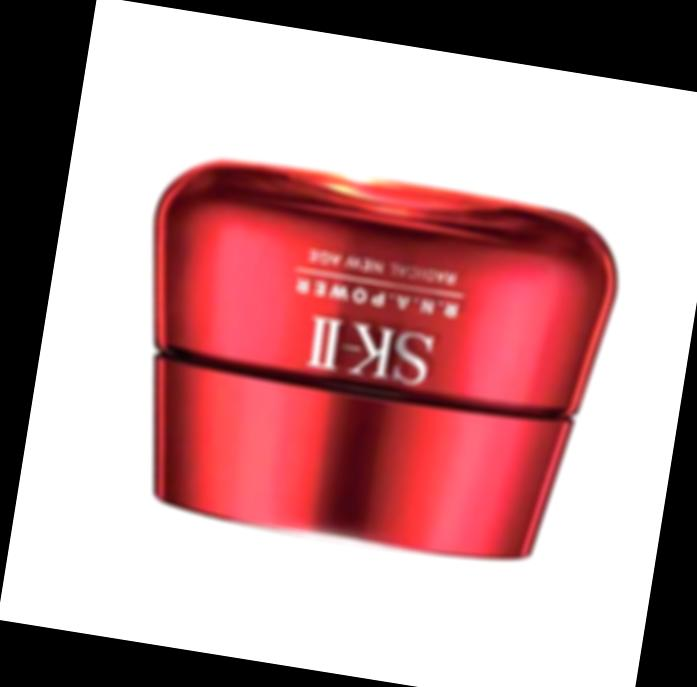cosmetic: (121, 158, 612, 573)
